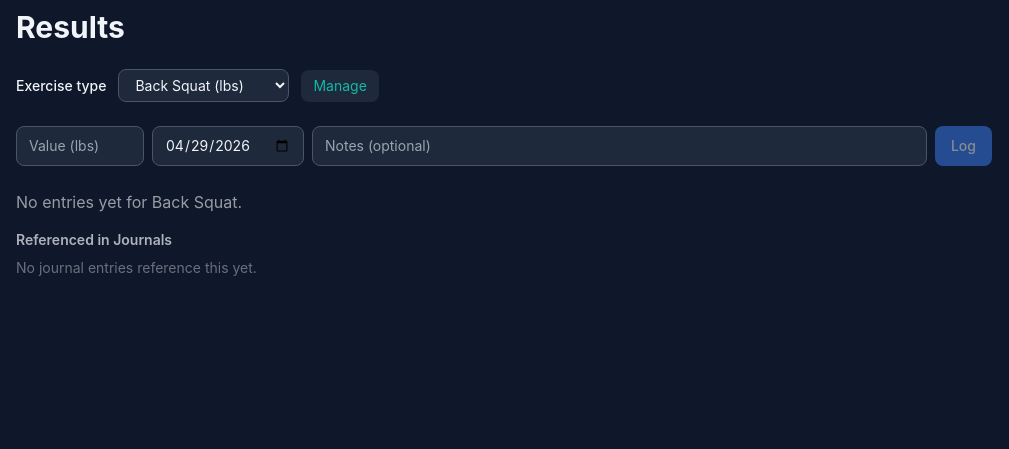
Test: Results › shows manage panel with type list and create form
Expected: the dropdown labelled "Exercise type" is shown, [118,69,289,102]
What coordinates should you click on to do the following:
click the button with aria-label "Manage types"
I would click on:
 (340, 86)
Its box is [301,70,379,102].
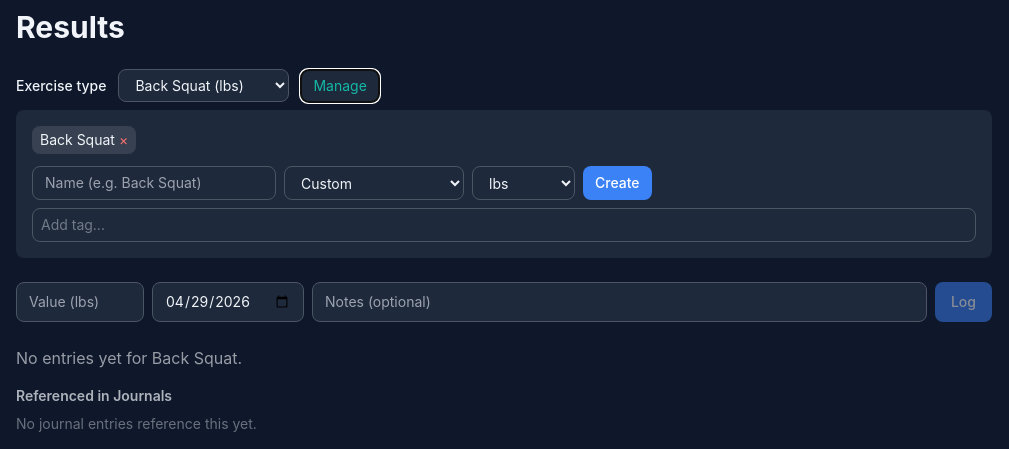
Now the button named "Delete Back Squat" is shown, box [119,130,128,150]
Now the field with placeholder "Name (e.g. Back Squat)" is shown, box [32,166,276,200]
